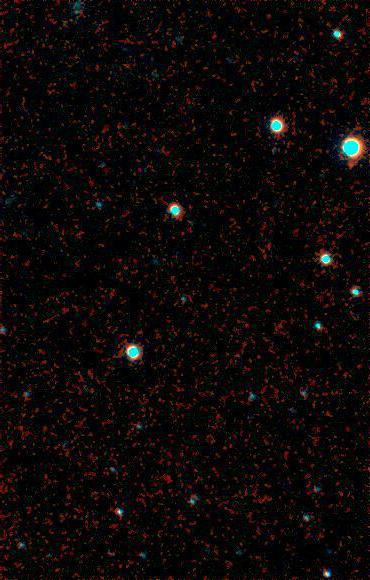star: (339, 148, 369, 178)
